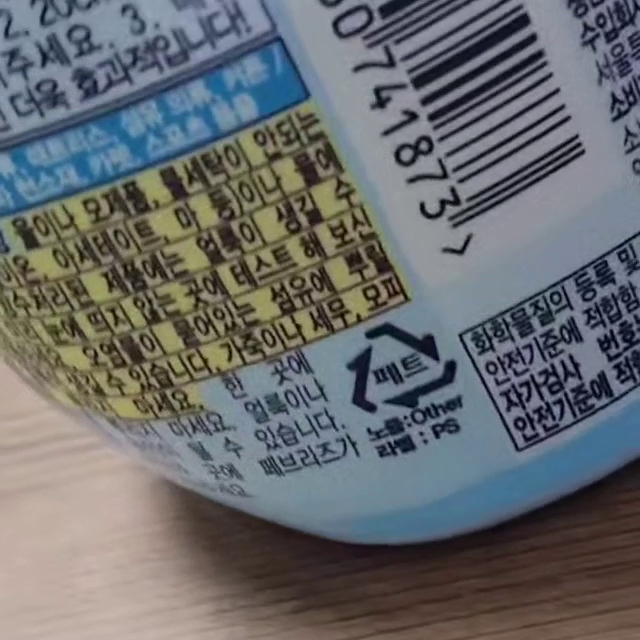Plastic: (346, 321, 459, 413)
